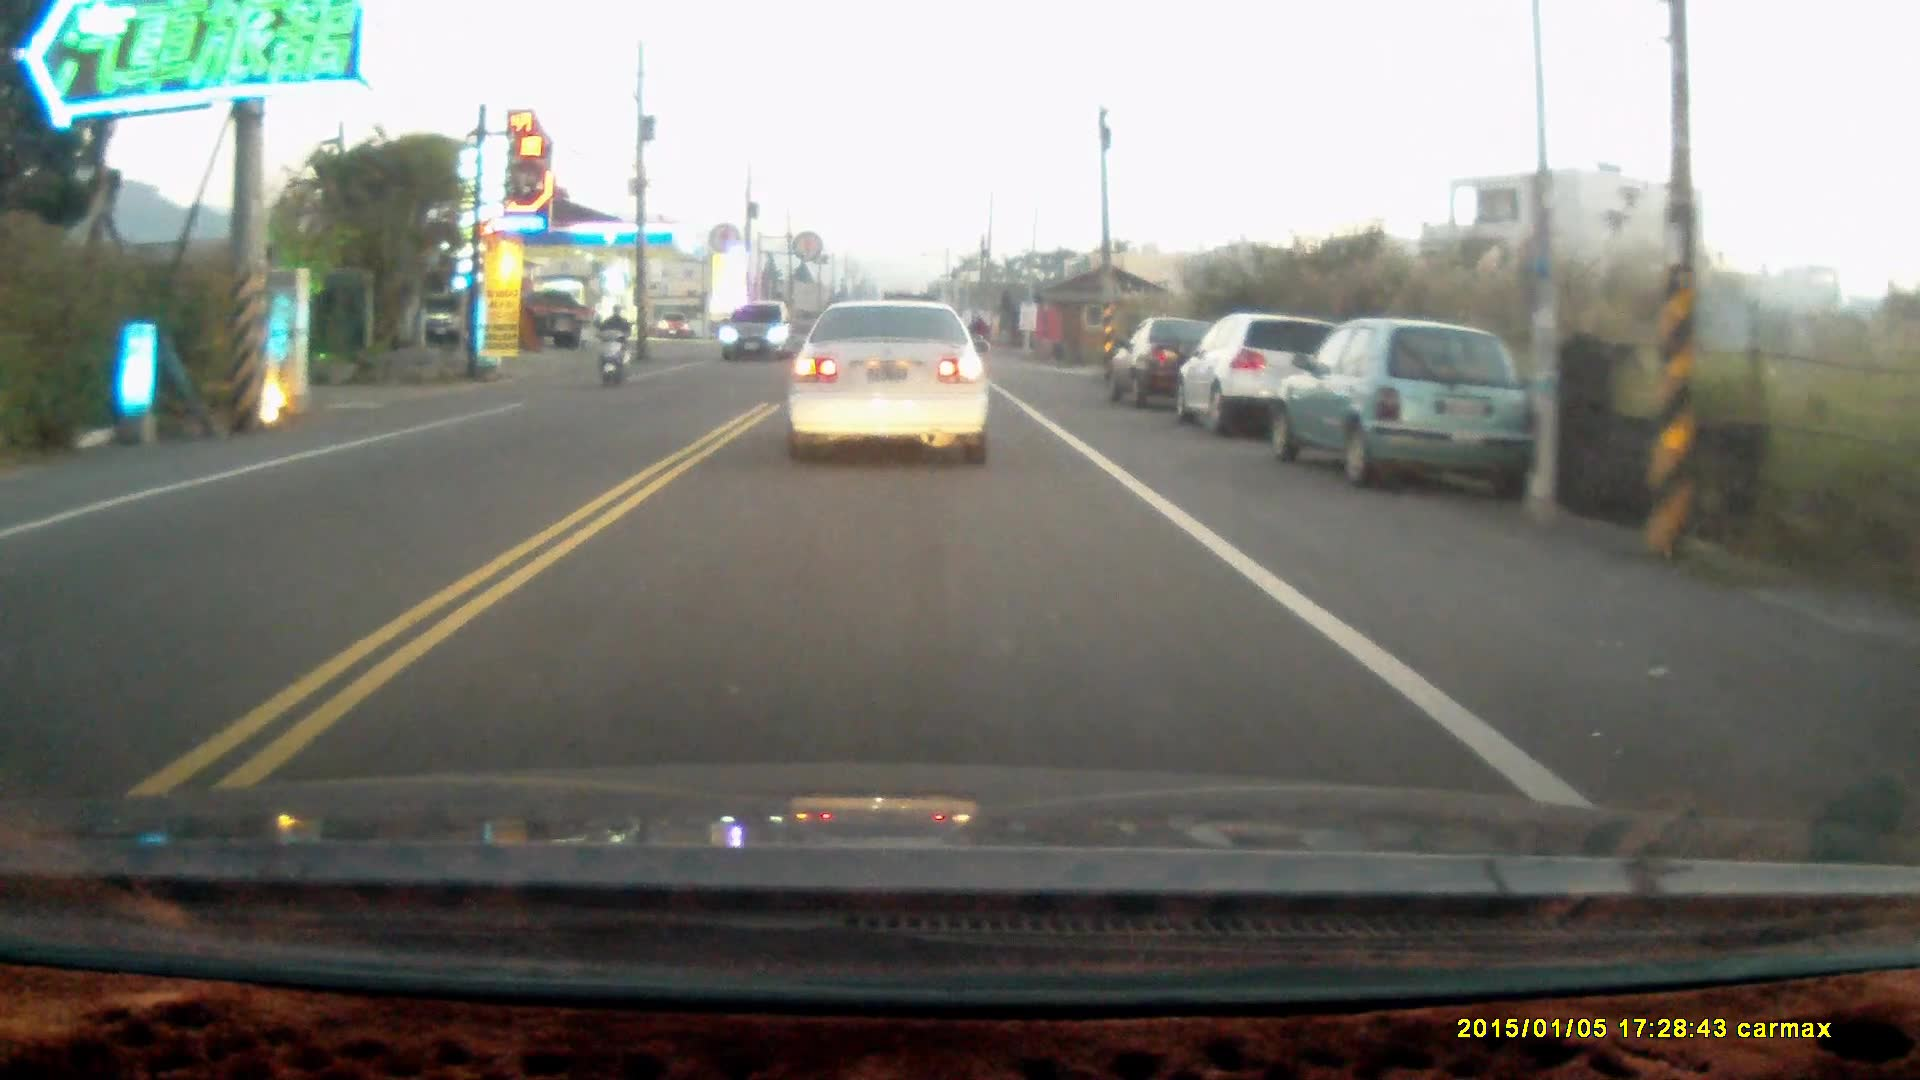rider: (594, 304, 632, 384)
vehicle: (1266, 318, 1538, 489), (787, 294, 997, 467), (1180, 313, 1345, 438), (1113, 315, 1214, 406), (724, 304, 798, 363)
